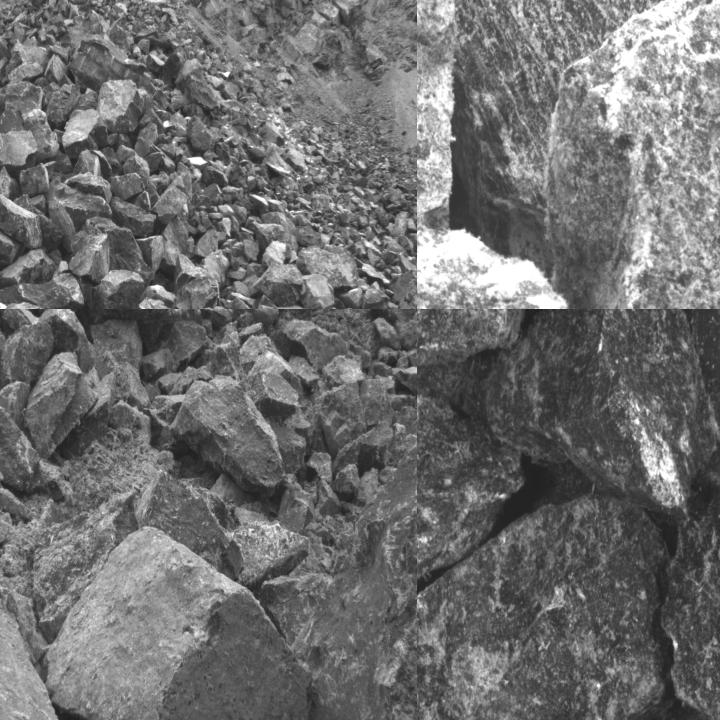stone: (417, 0, 719, 201), (417, 495, 671, 719), (544, 0, 719, 308), (45, 540, 314, 719), (487, 309, 716, 518), (260, 439, 416, 719), (417, 390, 525, 686), (417, 0, 487, 308), (139, 473, 307, 589), (29, 494, 136, 640), (661, 466, 719, 719), (172, 376, 284, 494), (417, 229, 583, 308), (0, 554, 70, 719), (23, 350, 100, 458), (417, 309, 529, 373), (67, 309, 218, 351), (332, 418, 416, 474), (0, 395, 44, 489), (314, 377, 367, 455), (70, 36, 145, 91), (0, 323, 55, 397), (49, 180, 108, 243), (284, 321, 348, 371), (194, 320, 244, 382), (0, 273, 85, 308), (241, 370, 299, 420), (89, 325, 141, 380), (296, 246, 358, 292), (174, 250, 219, 308), (68, 222, 110, 284), (173, 59, 220, 111), (0, 193, 44, 248), (253, 263, 306, 308), (100, 78, 142, 134), (151, 172, 193, 224), (0, 248, 57, 286), (92, 268, 146, 308), (62, 108, 106, 157), (110, 195, 157, 237), (361, 376, 398, 427), (162, 205, 190, 268), (0, 130, 39, 171), (0, 382, 32, 431), (280, 483, 312, 532), (44, 84, 80, 127), (4, 80, 44, 115), (188, 116, 223, 153), (0, 217, 24, 270), (299, 274, 336, 308), (321, 356, 364, 385), (288, 352, 320, 389), (202, 248, 229, 287), (218, 309, 279, 325), (391, 269, 416, 308), (108, 173, 144, 200), (372, 316, 400, 350), (307, 450, 334, 485), (353, 468, 377, 507), (19, 164, 50, 194), (332, 465, 360, 496), (316, 479, 340, 515), (393, 364, 416, 401), (134, 122, 158, 157), (196, 231, 224, 258), (133, 299, 183, 308), (227, 297, 257, 308)
